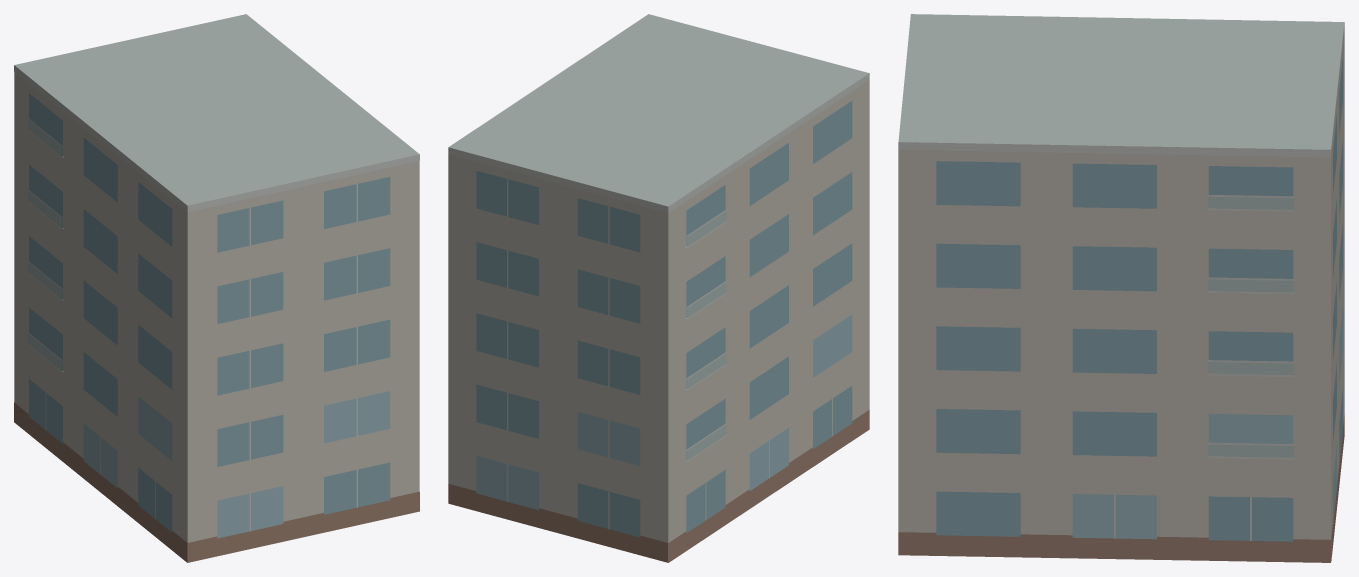
File: survey-upis-32881995.glb
The picture shows the model from 3 angles, left to right: view 1: azimuth 30°, elevation 25°; view 2: azimuth 150°, elevation 25°; view 3: azimuth 270°, elevation 25°; orthographic projection. The views are drawn at different scales.
Parts seen in each view (by area): view 1: survey-upis-32881995.tmp; view 2: survey-upis-32881995.tmp; view 3: survey-upis-32881995.tmp.
Boxes of the visible parts, x1,y1,x2,y2 form: survey-upis-32881995.tmp: (14, 14, 419, 562); survey-upis-32881995.tmp: (448, 14, 869, 562); survey-upis-32881995.tmp: (898, 14, 1344, 562).
Bounding box in the file's own units: 9.39 × 13.3 × 13.03.
